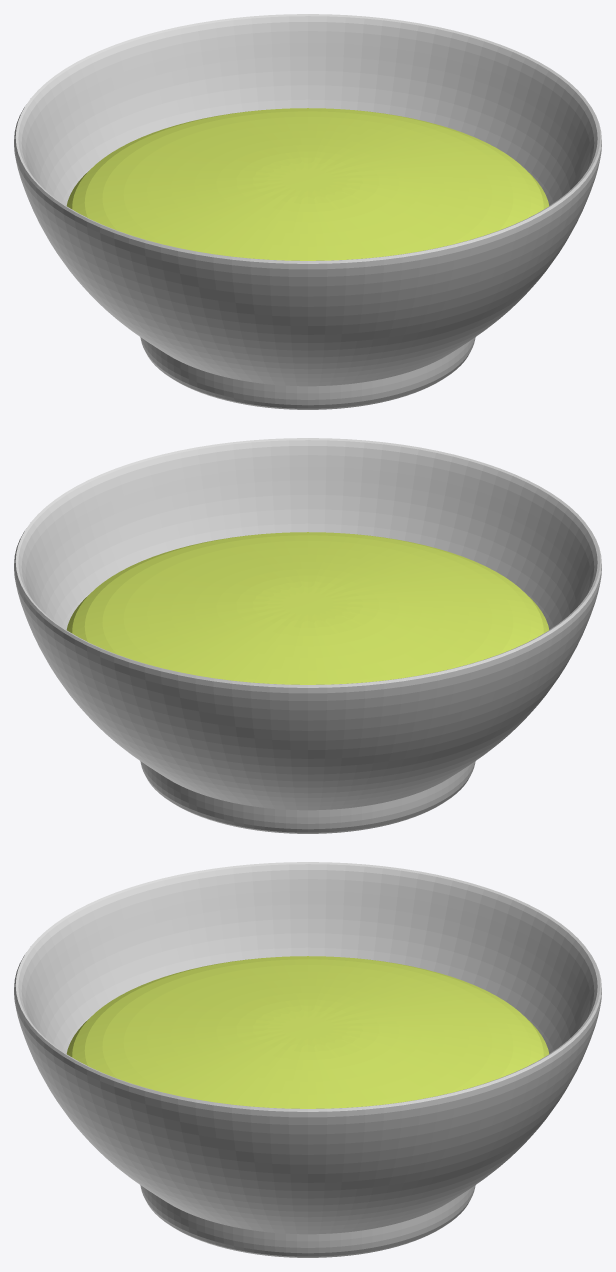
File: vinegar.fbx
3 views of the same model, one above another, from view 1: azimuth 30°, elevation 25°; view 2: azimuth 150°, elevation 25°; view 3: azimuth 270°, elevation 25° (orthographic).
Visible parts, largest first — view 1: 구체.005; view 2: 구체.005; view 3: 구체.005.
Part boxes in pixels (<box>): 구체.005: <box>14,14,601,409</box>; 구체.005: <box>14,438,601,833</box>; 구체.005: <box>14,862,601,1257</box>.
Size of the model in its own units: 191 by 73.37 by 191.
